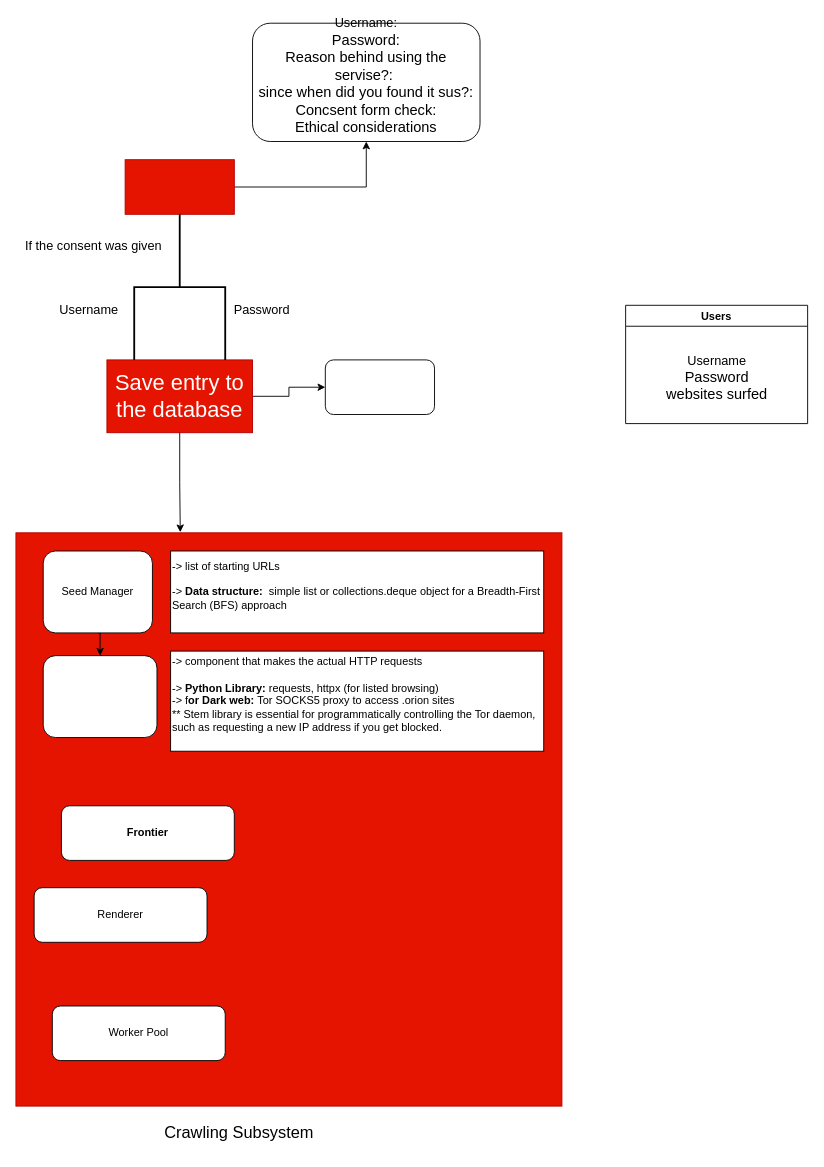
Some shapes in this 824 by 1167 pixel diagram are drawn without their labels. Here are the shapes that lost their labels. From the top down, the centre of each, then its label:
At pixel 179 186: "User Input".
At pixel 379 387: "SQLite".
At pixel 99 696: "Fetcher/Downloader".
